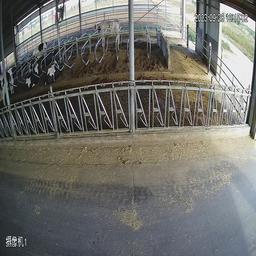cow: (87, 12, 122, 52), (43, 51, 66, 91), (0, 60, 18, 105), (22, 51, 39, 89), (32, 33, 51, 57)
